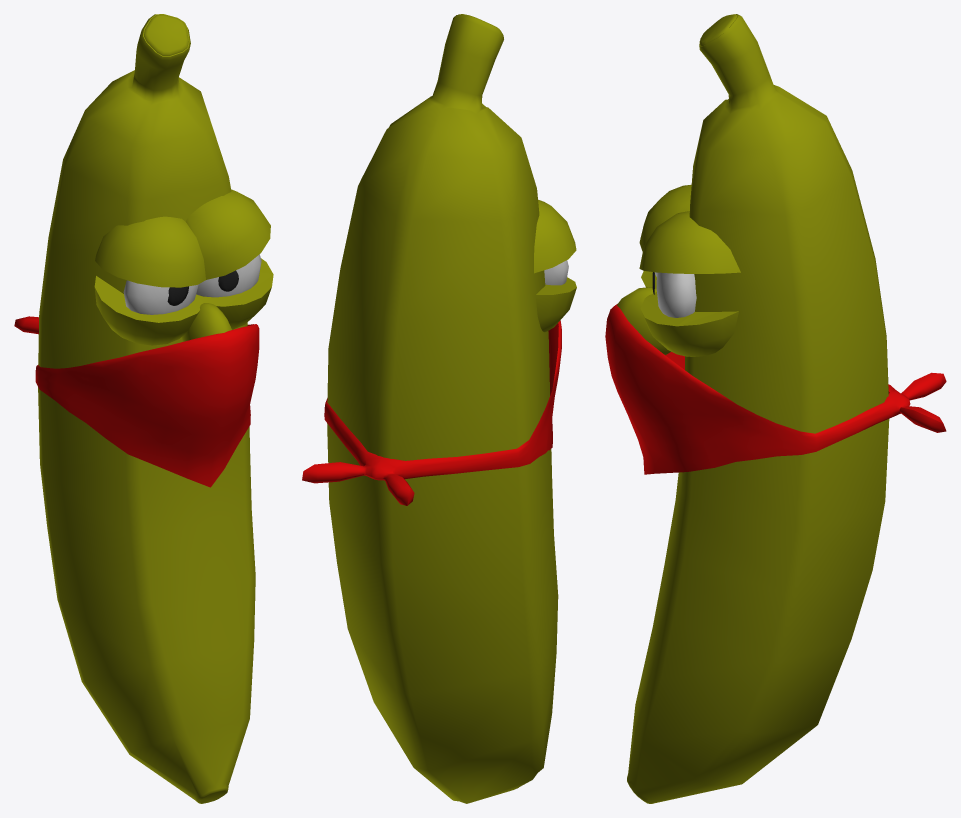
The model's file is Muz.fbx.
3 views of the same model, side by side, from view 1: azimuth 30°, elevation 25°; view 2: azimuth 150°, elevation 25°; view 3: azimuth 270°, elevation 25° (orthographic). The views are drawn at different scales.
Visible parts, largest first — view 1: Cylinder, Cube.008, Sphere002, Sphere004, Object001, Object002; view 2: Cylinder, Cube.008, Sphere002, Sphere004; view 3: Cylinder, Cube.008, Sphere002, Sphere004, Object001, Object002.
Boxes of the visible parts, x1,y1,x2,y2 form: Cylinder: (38,14,255,803); Cube.008: (14,316,259,487); Sphere002: (95,189,270,287); Sphere004: (94,258,273,345); Object001: (123,254,261,314); Object002: (182,303,231,341); Cylinder: (327,14,558,803); Cube.008: (302,320,561,505); Sphere002: (534,199,576,273); Sphere004: (535,277,576,332); Cylinder: (627,14,889,803); Cube.008: (605,304,946,474); Sphere002: (639,184,740,273); Sphere004: (640,271,738,356); Object001: (652,272,696,317); Object002: (617,287,670,355).
Size of the model in its own units: 2698 by 10247 by 4050.
